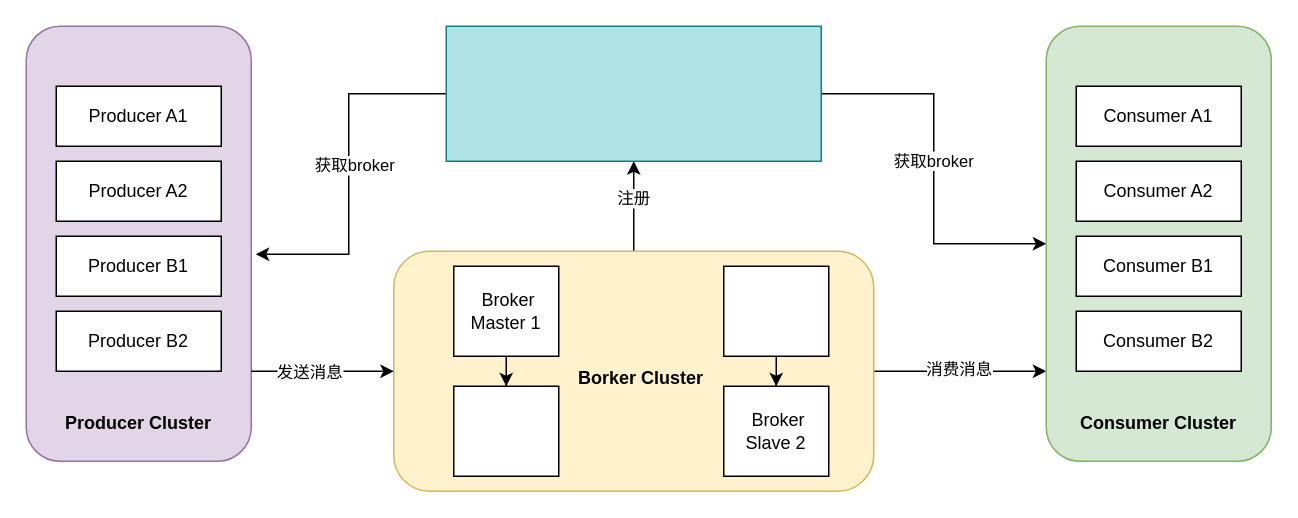
Some shapes in this 1298 by 518 pixel diagram are drawn without their labels. Here are the shapes that lost their labels. From the top down, the centre of each, then its label:
At point 633,93: "Name Server".
At point 775,310: "Broker Master 2".
At point 505,430: "Broker Slave 1".
